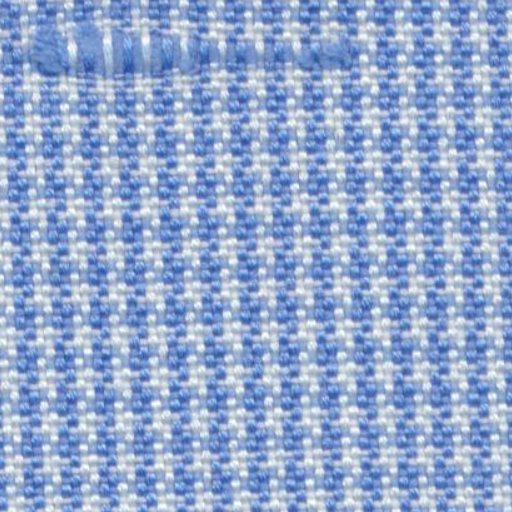DaiSha: (16, 16, 366, 90)
